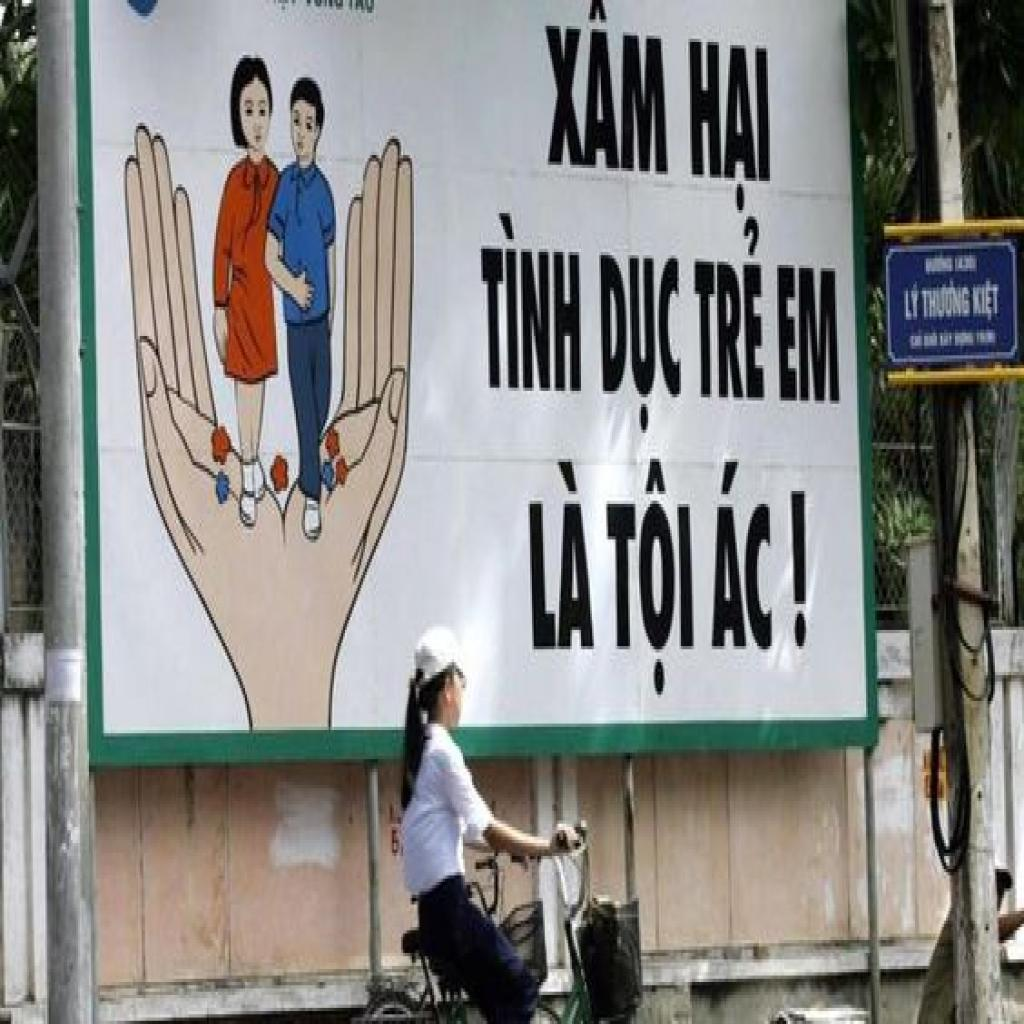text: (604, 456, 700, 704), (543, 0, 672, 181), (479, 210, 585, 397), (688, 39, 774, 223), (599, 256, 685, 440), (692, 210, 766, 407), (526, 455, 598, 656), (710, 458, 777, 656), (777, 265, 843, 410), (790, 491, 810, 656), (919, 278, 971, 323), (972, 278, 1002, 326), (902, 281, 922, 326)
